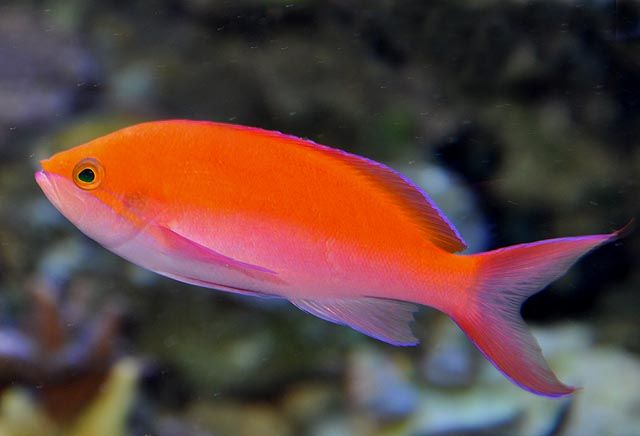fish: (35, 119, 619, 400)
